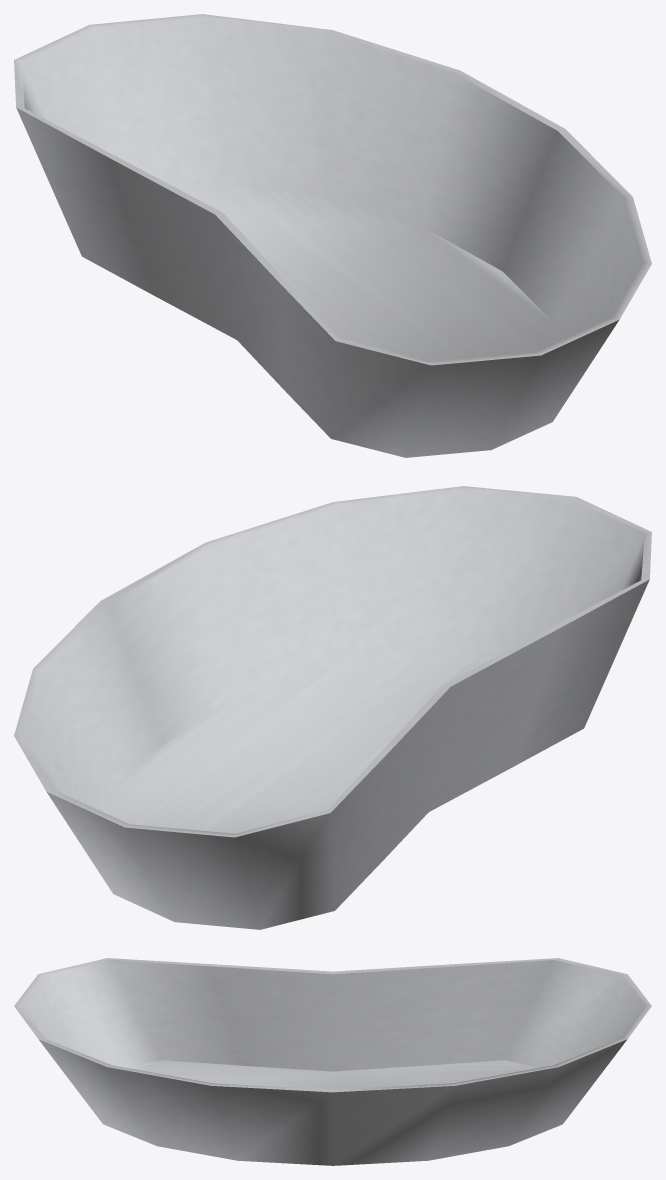
Rendered from kidney_dish.glb.
3 renders of one model, top to bottom at view 1: azimuth 30°, elevation 25°; view 2: azimuth 150°, elevation 25°; view 3: azimuth 270°, elevation 25°, orthographic. The views are drawn at different scales.
Visible parts, largest first — view 1: t2_kidney_dish; view 2: t2_kidney_dish; view 3: t2_kidney_dish.
Boxes of the visible parts, bbox=[...] form: t2_kidney_dish: bbox=[14, 14, 651, 457]; t2_kidney_dish: bbox=[14, 486, 651, 929]; t2_kidney_dish: bbox=[14, 958, 651, 1165].
Size of the model in its own units: 0.1246 by 0.04 by 0.25.
Materials: 1 (1 with a texture image).
